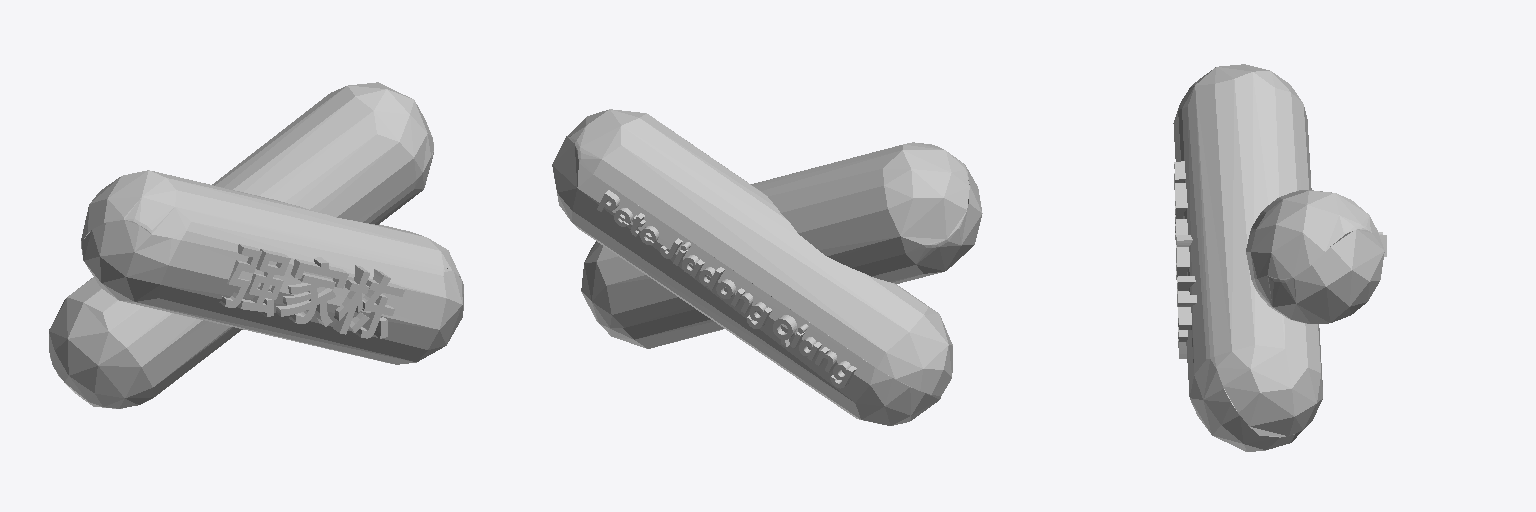
File: PeteJiadongQiang.obj
3 views of the same model, side by side, from view 1: azimuth 30°, elevation 25°; view 2: azimuth 150°, elevation 25°; view 3: azimuth 270°, elevation 25° (orthographic).
Visible parts, largest first — view 1: root_3, root_2, node_id691; view 2: root_2, root_3, node_id702; view 3: root_3, root_2, node_id691.
Boxes of the visible parts, <box> form: root_3: <box>81,170,463,364</box>; root_2: <box>49,82,433,408</box>; node_id691: <box>219,244,404,338</box>; root_2: <box>552,109,952,425</box>; root_3: <box>581,142,982,348</box>; node_id702: <box>597,190,856,388</box>; root_3: <box>1173,64,1322,451</box>; root_2: <box>1246,190,1384,323</box>; node_id691: <box>1174,161,1196,358</box>.
Size of the model in its own units: 0.289 by 0.1836 by 0.1414.